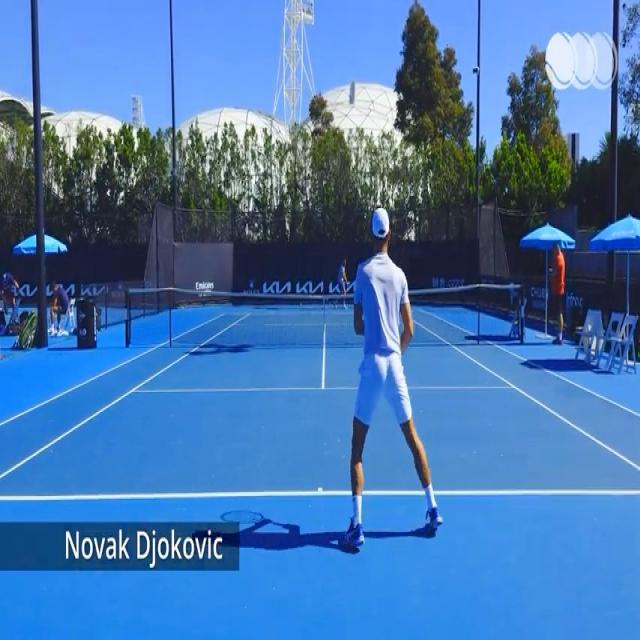ready-position: (343, 208, 442, 534)
